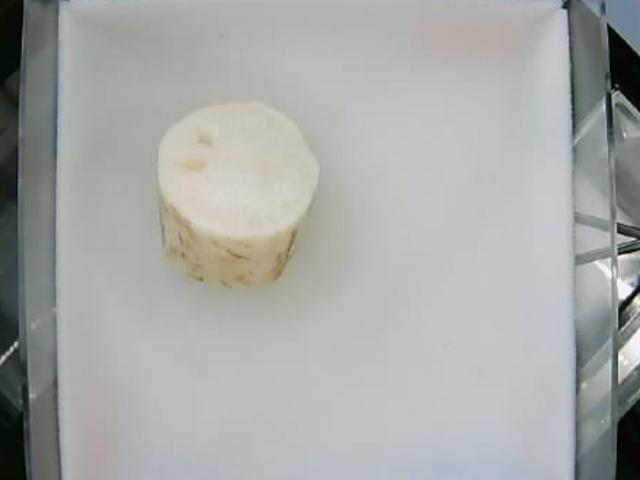Mooli: (156, 98, 319, 289)
